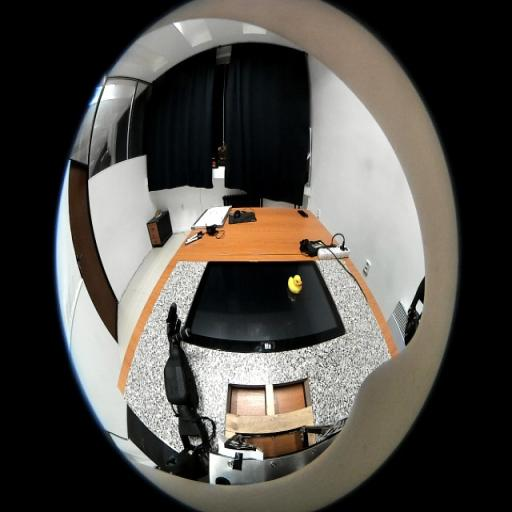Duck: (288, 274, 303, 294)
LeftHand: (167, 323, 182, 346)
